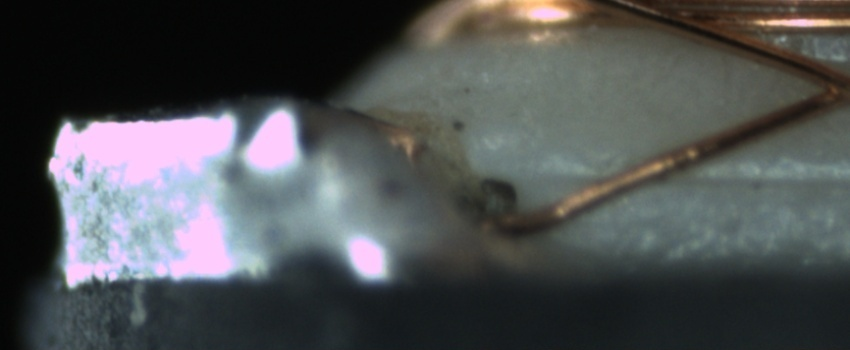CL: (796, 58, 850, 114)
DL: (556, 146, 850, 208)
